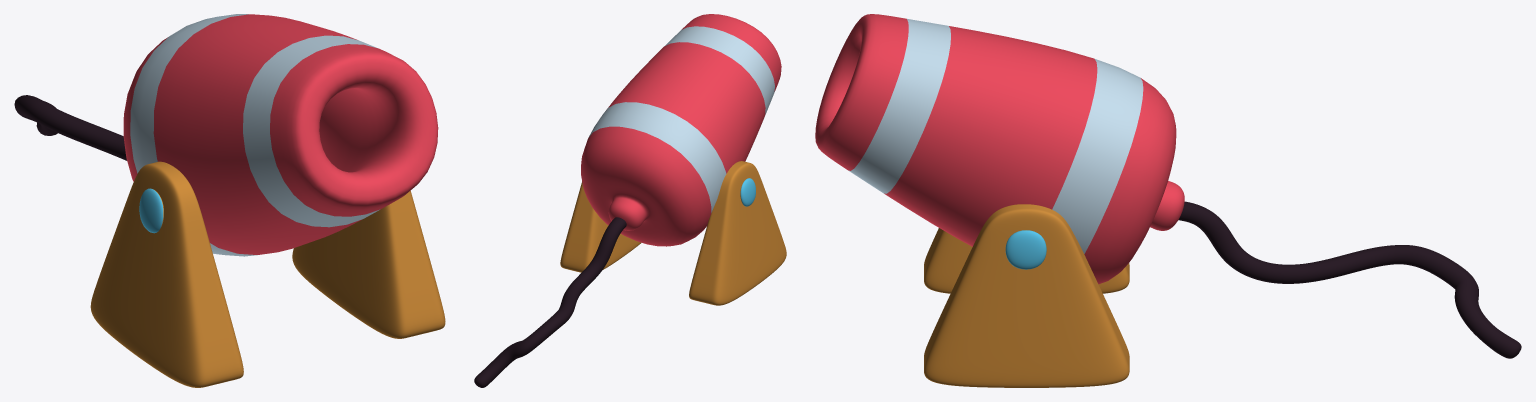
Rendered from cannon.fbx.
3 views of the same model, side by side, from view 1: azimuth 30°, elevation 25°; view 2: azimuth 150°, elevation 25°; view 3: azimuth 270°, elevation 25° (orthographic). The views are drawn at different scales.
Parts seen in each view (by area): view 1: NurbsPath.001, Cube; view 2: NurbsPath.001, Cube; view 3: NurbsPath.001, Cube.
Part boxes in pixels (x1=…): NurbsPath.001: x1=14, y1=14, x2=438, y2=256; Cube: x1=90, y1=161, x2=445, y2=387; NurbsPath.001: x1=474, y1=14, x2=781, y2=387; Cube: x1=560, y1=161, x2=786, y2=305; NurbsPath.001: x1=815, y1=14, x2=1521, y2=358; Cube: x1=924, y1=204, x2=1129, y2=387.
Bounding box in the file's own units: 467 × 1150 × 568.
